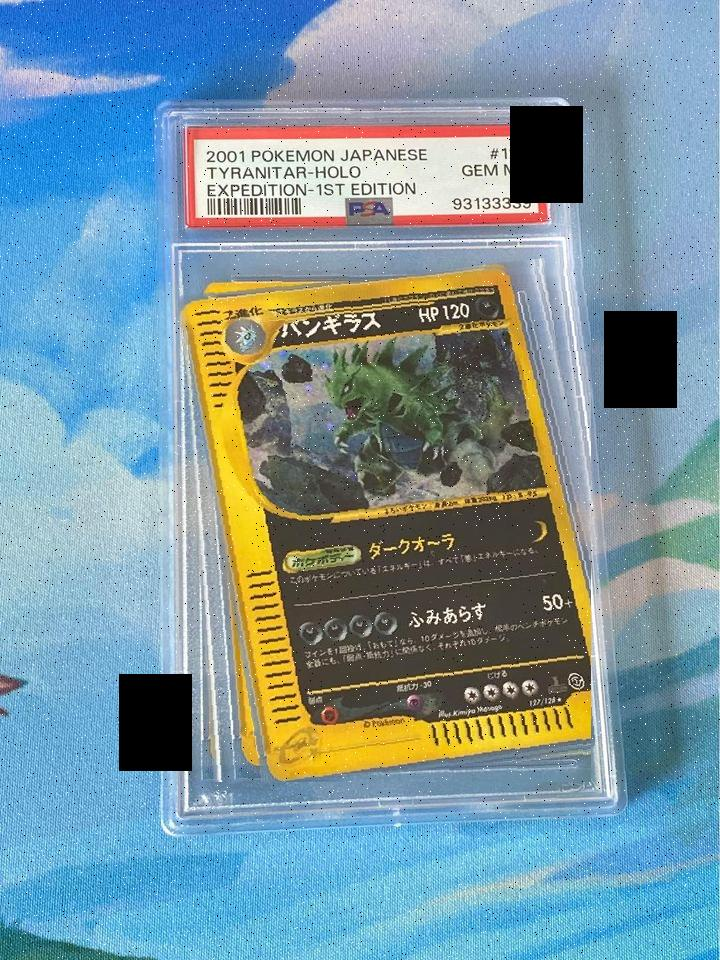card: (183, 267, 591, 782)
